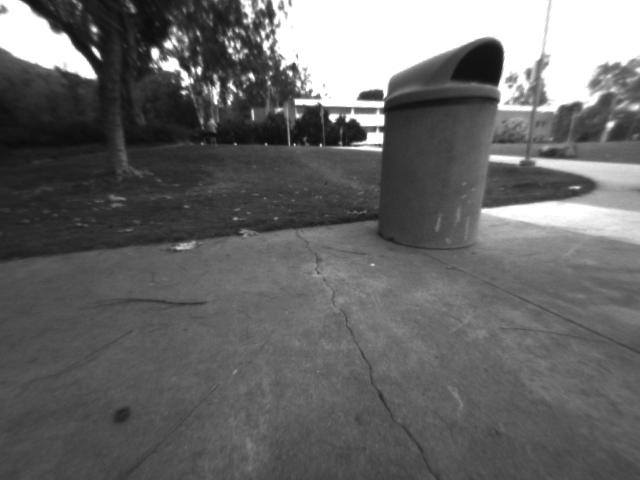trashcan: (372, 34, 510, 257)
